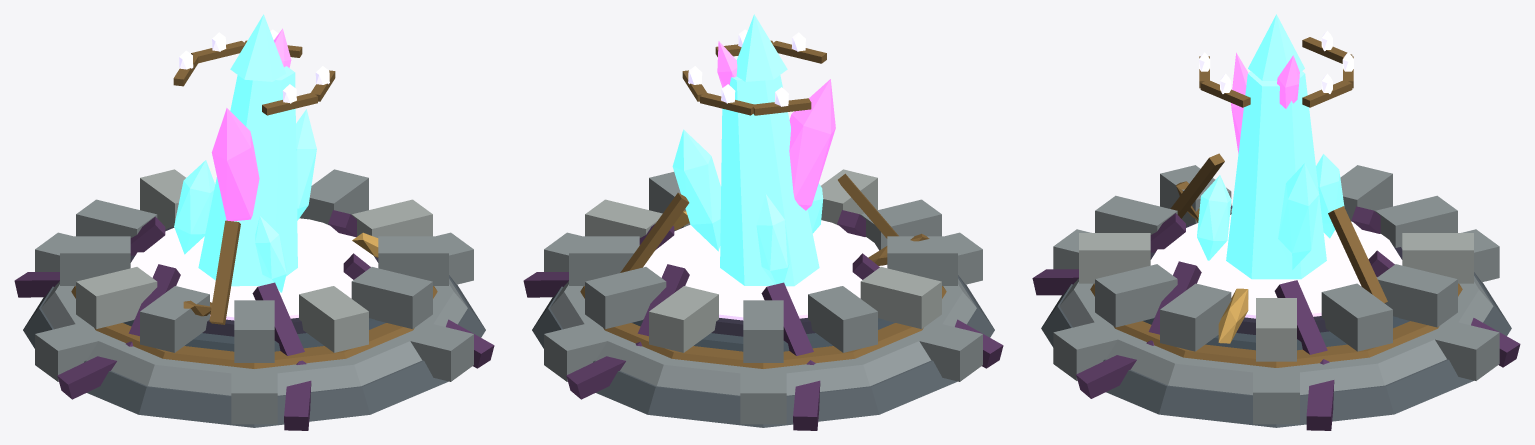
Rendered from wellspring_recorrupting.glb.
3 renders of one model, left to right at view 1: azimuth 30°, elevation 25°; view 2: azimuth 150°, elevation 25°; view 3: azimuth 270°, elevation 25°, orthographic.
Parts seen in each view (by area): view 1: Wellspring_State_Anchor_Middle.002, Recorrupting_Crystal_Body, Wellspring_State_Anchor_Lower.002, Recorrupting_Basin_Liquid, Recorrupting_Growth_Main, Recorrupting_Basin_Rim_11, Wellspring_State_Anchor_Inlay.002, Recorrupting_Basin_Rim_7, Recorrupting_Basin_Rim_10, Recorrupting_Basin_Rim_8, Recorrupting_Basin_Rim_6, Recorrupting_Basin_Rim_12 (+27 smaller); view 2: Recorrupting_Crystal_Body, Wellspring_State_Anchor_Middle.002, Wellspring_State_Anchor_Lower.002, Recorrupting_Basin_Liquid, Recorrupting_Growth_Main, Recorrupting_Basin_Rim_7, Wellspring_State_Anchor_Inlay.002, Recorrupting_Crystal_Shard_1, Recorrupting_Basin_Rim_3, Recorrupting_Basin_Rim_4, Recorrupting_Basin_Rim_6, Recorrupting_Basin_Rim_8 (+29 smaller); view 3: Recorrupting_Crystal_Body, Wellspring_State_Anchor_Middle.002, Wellspring_State_Anchor_Lower.002, Recorrupting_Basin_Liquid, Wellspring_State_Anchor_Inlay.002, Recorrupting_Basin_Rim_3, Recorrupting_Basin_Rim_11, Recorrupting_Basin_Rim_2, Recorrupting_Basin_Rim_12, Recorrupting_Basin_Rim_4, Recorrupting_Basin_Rim_10, Wellspring_State_Anchor_Buttress_2.002 (+31 smaller).
Boxes of the visible parts, bbox=[...] form: Wellspring_State_Anchor_Middle.002: bbox=[41, 278, 467, 395]; Recorrupting_Crystal_Body: bbox=[198, 66, 297, 286]; Wellspring_State_Anchor_Lower.002: bbox=[23, 275, 485, 427]; Recorrupting_Basin_Liquid: bbox=[130, 218, 378, 320]; Recorrupting_Growth_Main: bbox=[211, 108, 259, 221]; Recorrupting_Basin_Rim_11: bbox=[351, 267, 432, 329]; Wellspring_State_Anchor_Inlay.002: bbox=[71, 286, 437, 368]; Recorrupting_Basin_Rim_7: bbox=[76, 267, 157, 329]; Recorrupting_Basin_Rim_10: bbox=[299, 286, 368, 352]; Recorrupting_Basin_Rim_8: bbox=[140, 286, 209, 352]; Recorrupting_Basin_Rim_6: bbox=[60, 236, 130, 285]; Recorrupting_Basin_Rim_12: bbox=[378, 236, 448, 285]; Recorrupting_Crystal_Body: bbox=[720, 75, 819, 286]; Wellspring_State_Anchor_Middle.002: bbox=[550, 278, 976, 395]; Wellspring_State_Anchor_Lower.002: bbox=[532, 275, 994, 427]; Recorrupting_Basin_Liquid: bbox=[643, 220, 887, 320]; Recorrupting_Growth_Main: bbox=[789, 79, 835, 210]; Recorrupting_Basin_Rim_7: bbox=[860, 267, 941, 329]; Wellspring_State_Anchor_Inlay.002: bbox=[580, 286, 946, 368]; Recorrupting_Crystal_Shard_1: bbox=[672, 129, 720, 251]; Recorrupting_Basin_Rim_3: bbox=[585, 267, 666, 329]; Recorrupting_Basin_Rim_4: bbox=[649, 286, 718, 352]; Recorrupting_Basin_Rim_6: bbox=[808, 286, 877, 352]; Recorrupting_Basin_Rim_8: bbox=[887, 236, 957, 285]; Recorrupting_Crystal_Body: bbox=[1226, 71, 1326, 279]; Wellspring_State_Anchor_Middle.002: bbox=[1059, 209, 1493, 394]; Wellspring_State_Anchor_Lower.002: bbox=[1041, 272, 1511, 427]; Recorrupting_Basin_Liquid: bbox=[1150, 215, 1402, 318]; Wellspring_State_Anchor_Inlay.002: bbox=[1090, 283, 1462, 367]; Recorrupting_Basin_Rim_3: bbox=[1377, 264, 1457, 327]; Recorrupting_Basin_Rim_11: bbox=[1095, 264, 1177, 327]; Recorrupting_Basin_Rim_2: bbox=[1321, 283, 1392, 351]; Recorrupting_Basin_Rim_12: bbox=[1160, 283, 1231, 351]; Recorrupting_Basin_Rim_4: bbox=[1402, 233, 1473, 283]; Recorrupting_Basin_Rim_10: bbox=[1079, 233, 1150, 283]; Wellspring_State_Anchor_Buttress_2.002: bbox=[1421, 320, 1499, 380].
Size of the model in its own units: 4.89 by 3.44 by 4.77.
